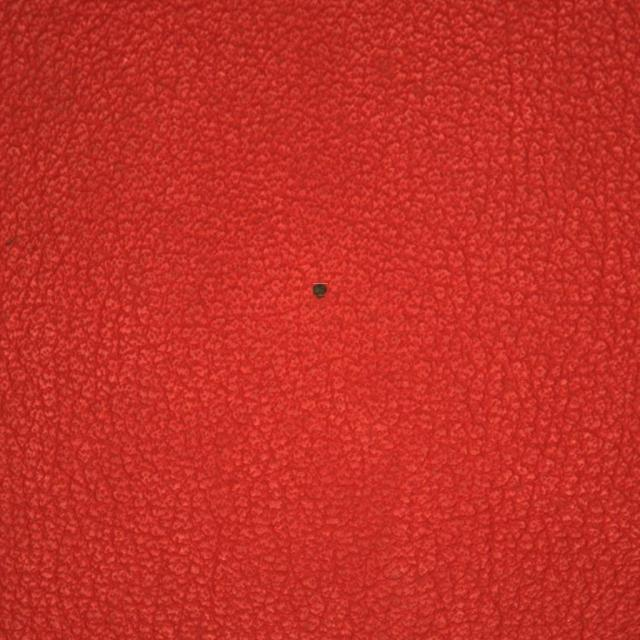Hole: (252, 206, 383, 371)
